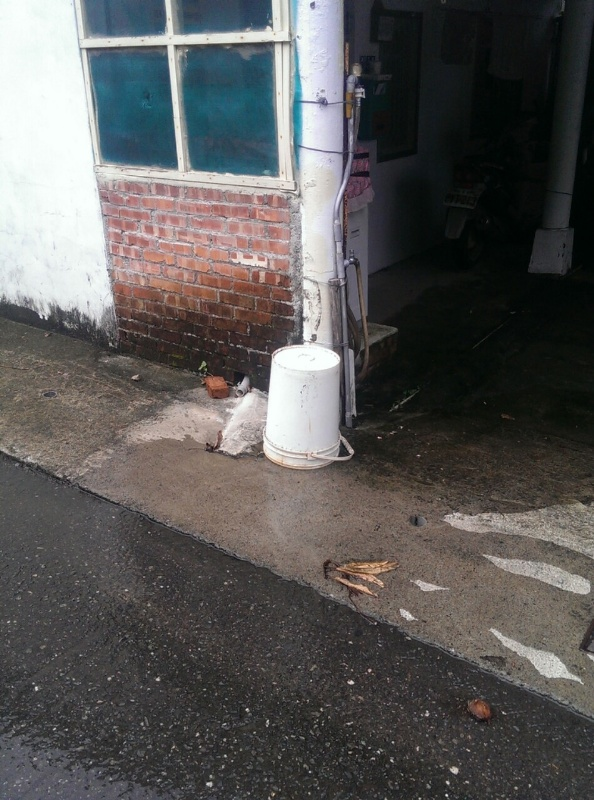bucket: (259, 342, 355, 473)
